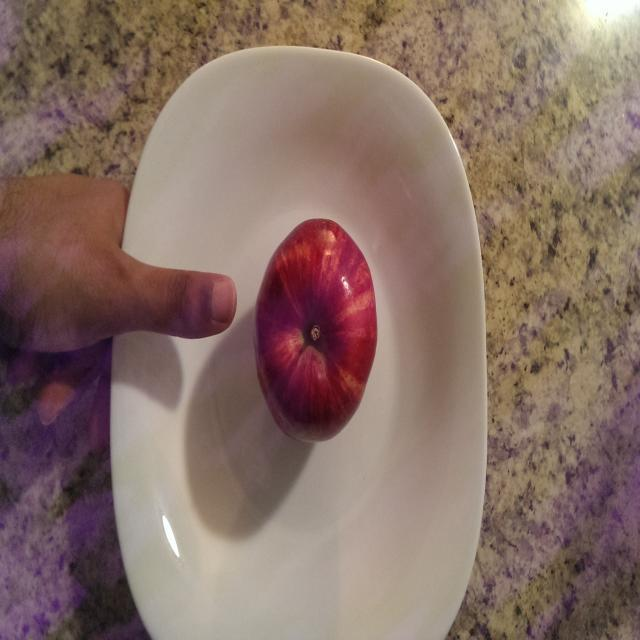Apple: (250, 216, 383, 447)
Finger: (145, 252, 240, 350)
